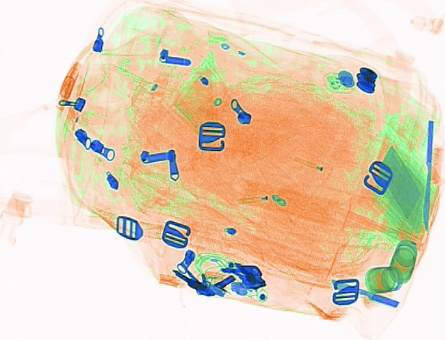glassbottle: (388, 239, 418, 284), (365, 264, 402, 294)
tsbingdao: (331, 277, 400, 308), (420, 119, 435, 233)
